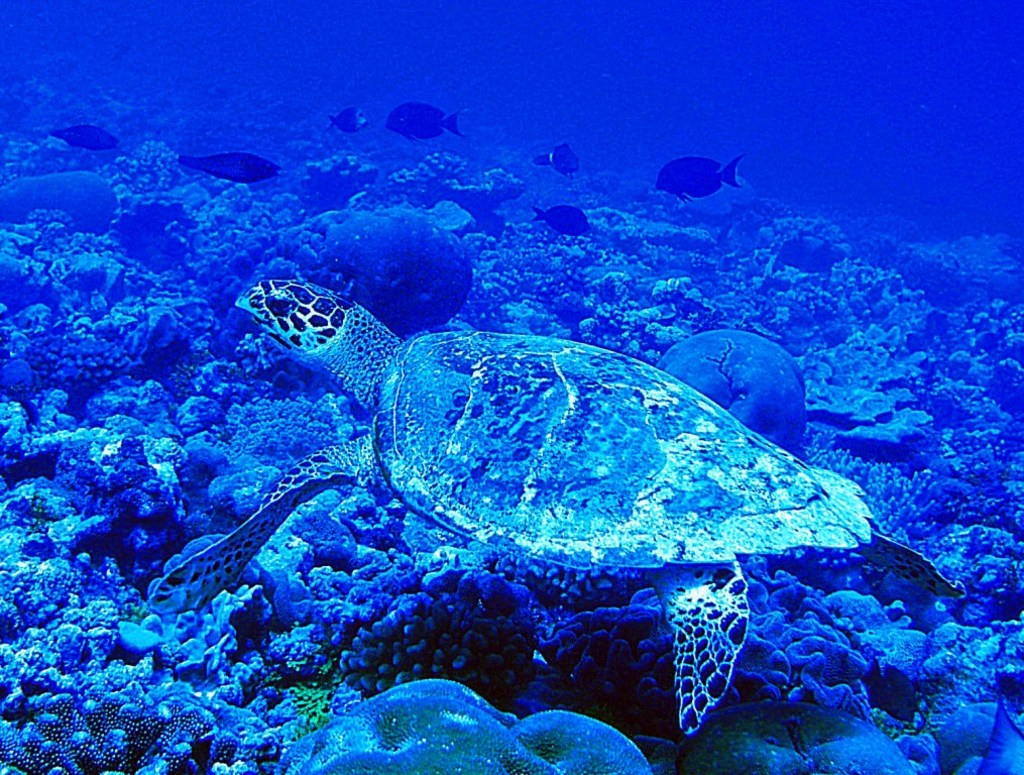Sea turtles: (147, 276, 966, 737)
